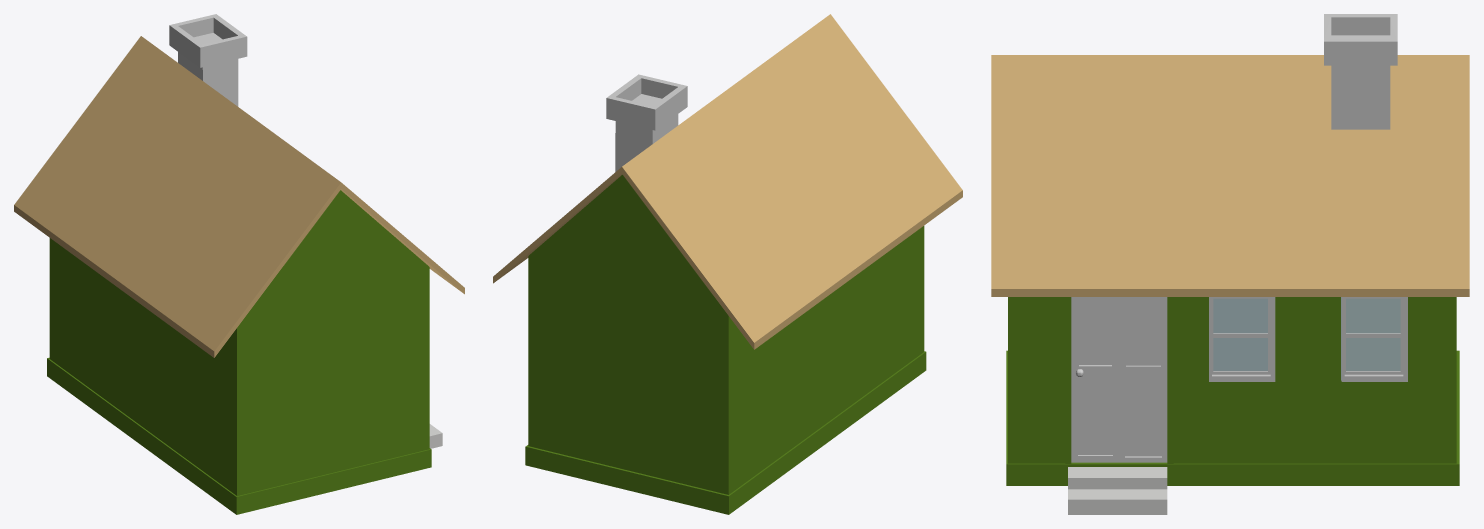
The model's file is house_green.dae.
3 renders of one model, left to right at view 1: azimuth 30°, elevation 25°; view 2: azimuth 150°, elevation 25°; view 3: azimuth 270°, elevation 25°, orthographic. The views are drawn at different scales.
Parts seen in each view (by area): view 1: Mesh_003_janela001_Cube_005; view 2: Mesh_003_janela001_Cube_005; view 3: Mesh_003_janela001_Cube_005.
Boxes of the visible parts, x1,y1,x2,y2 form: Mesh_003_janela001_Cube_005: (14,14,464,514); Mesh_003_janela001_Cube_005: (493,14,962,514); Mesh_003_janela001_Cube_005: (991,14,1469,514).
Bounding box in the file's own units: 3.34 × 4.45 × 4.32.
Materials: 10 (1 with a texture image).
